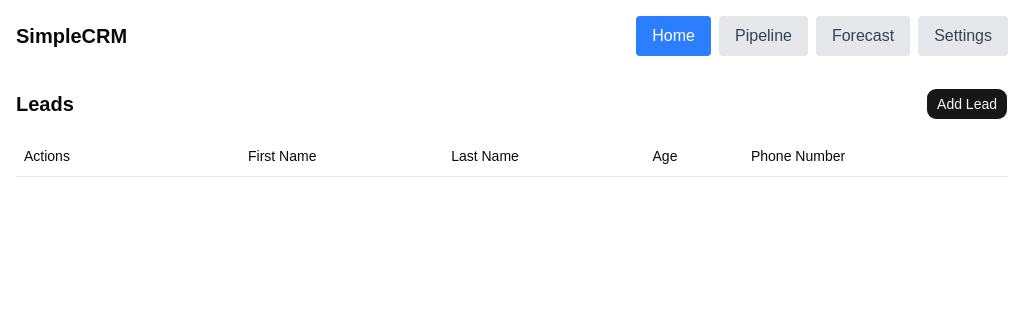
Scenario: App › renders a matrix table with Bucket and Total columns on the forecast page
The image size is (1024, 318).
Click the button "Forecast": point(863, 36) [816,16,910,56]
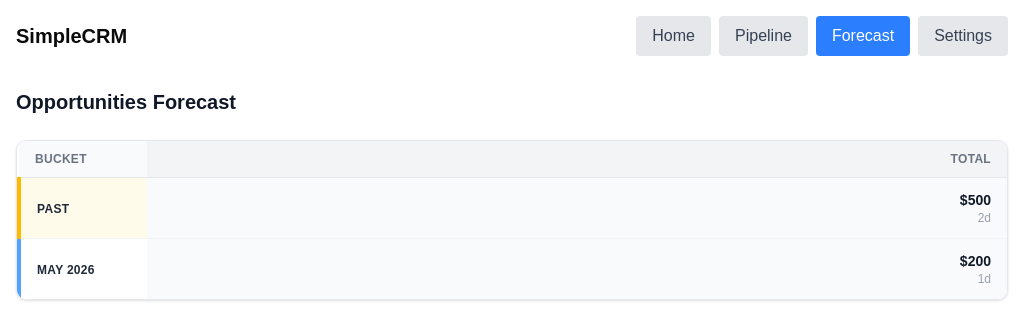
Expected: the text "Past" is shown, [37,202,69,216]
Expected: the text "May 2026" is shown, [37,263,95,277]
Expected: the column heading "Total" is shown, [147,141,1007,178]
